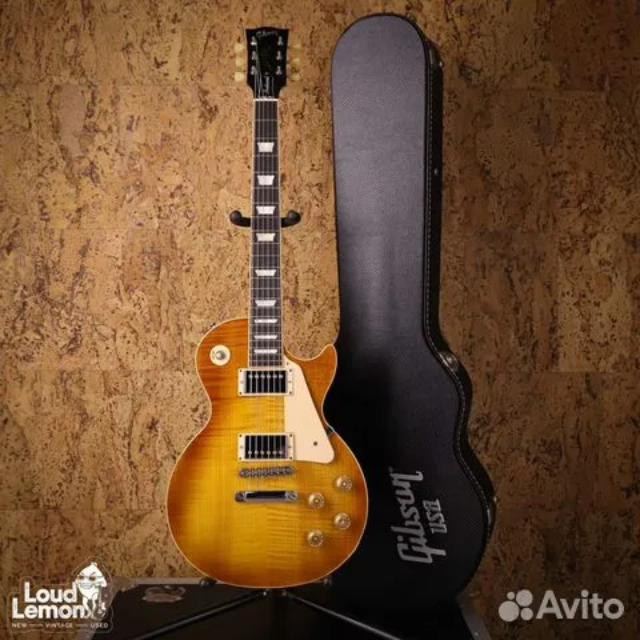Electric-Guitar: (168, 27, 368, 587)
